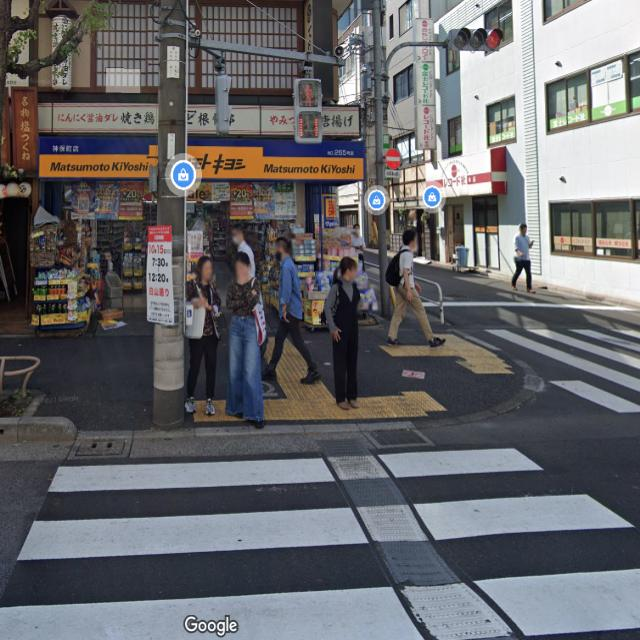traffic-light: (287, 76, 323, 144)
